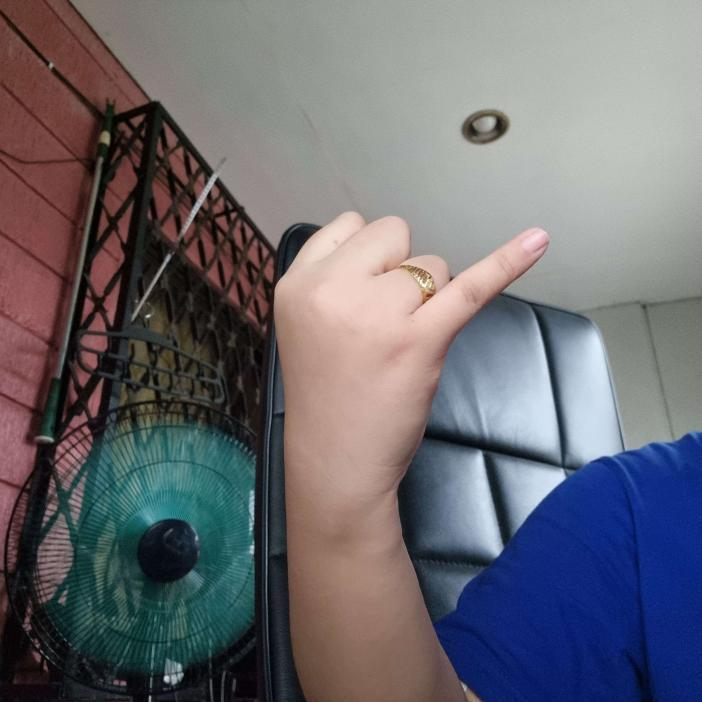j: (273, 210, 552, 492)
